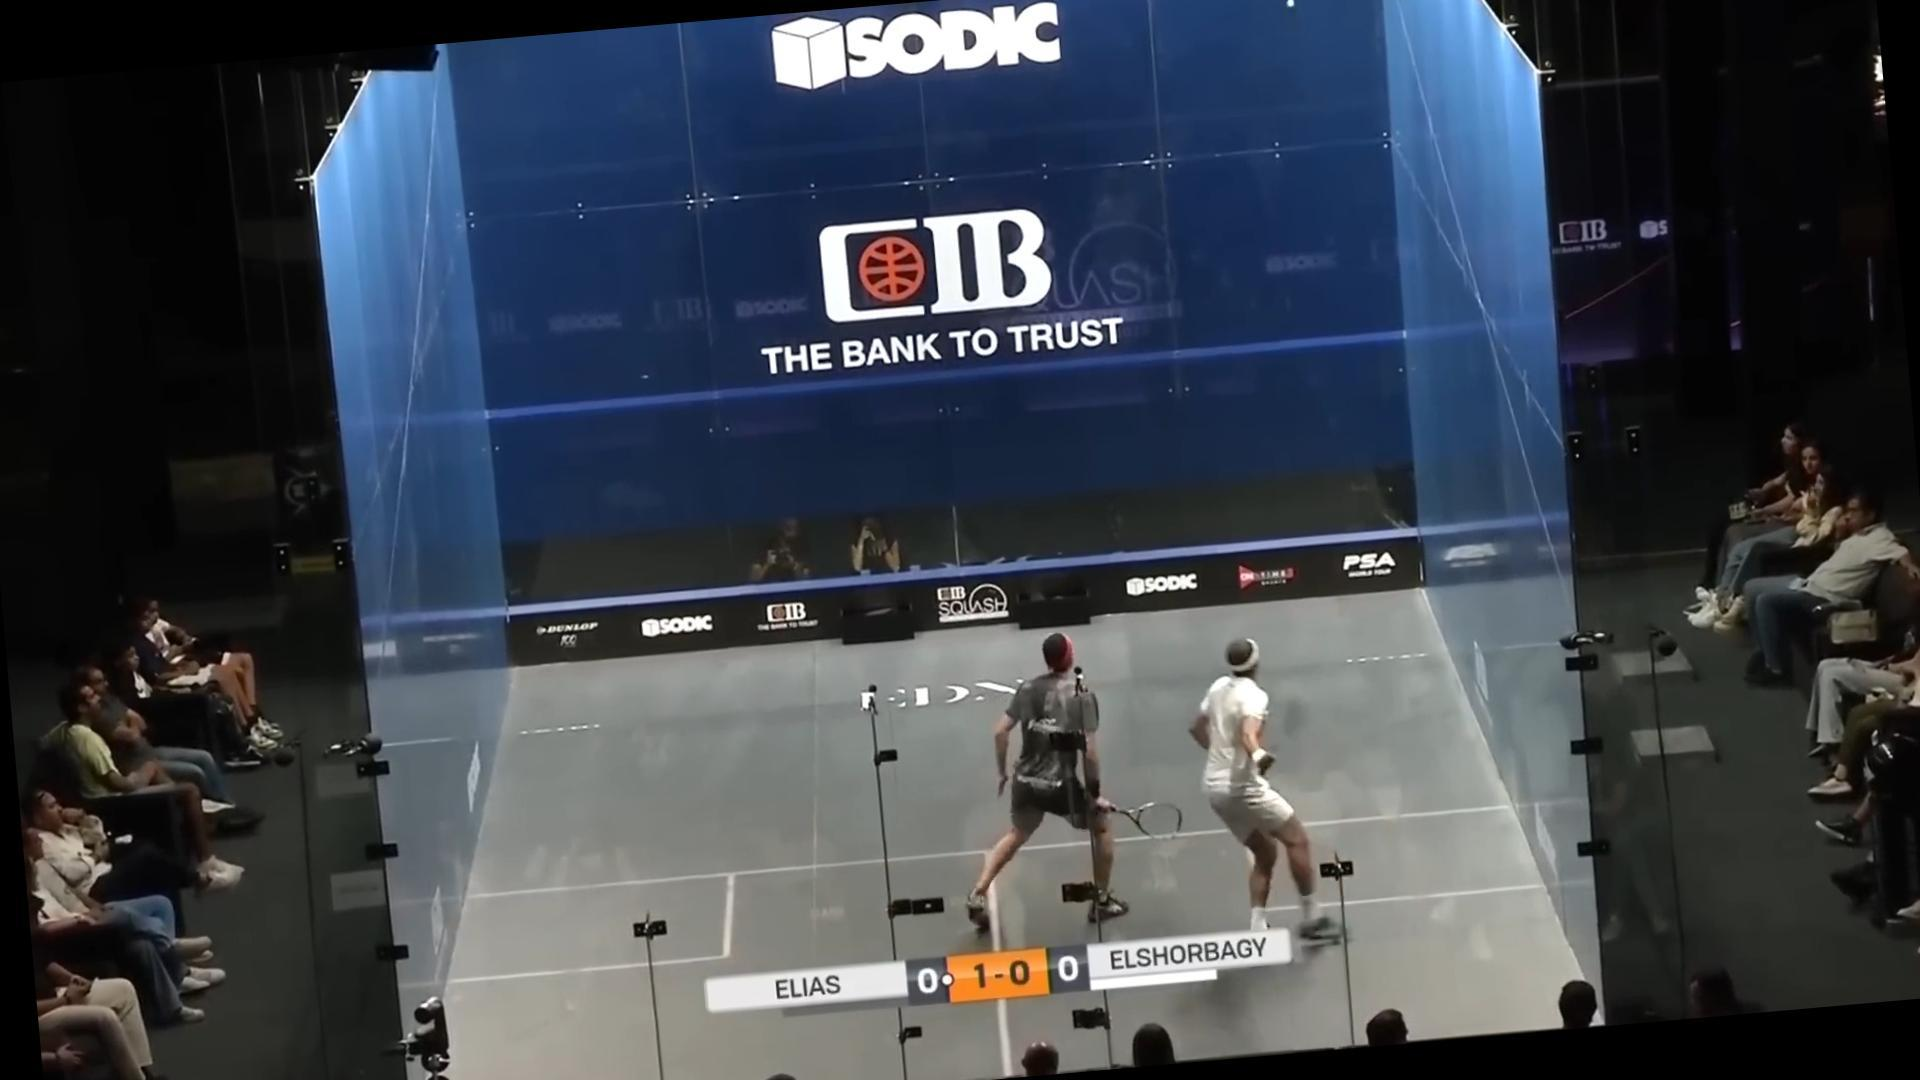Squash-Ball: (1275, 0, 1305, 20)
